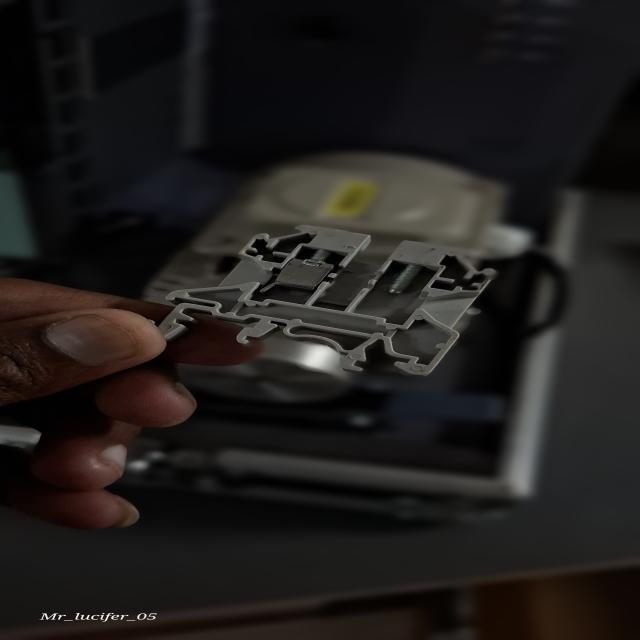Reject: (176, 212, 507, 388)
